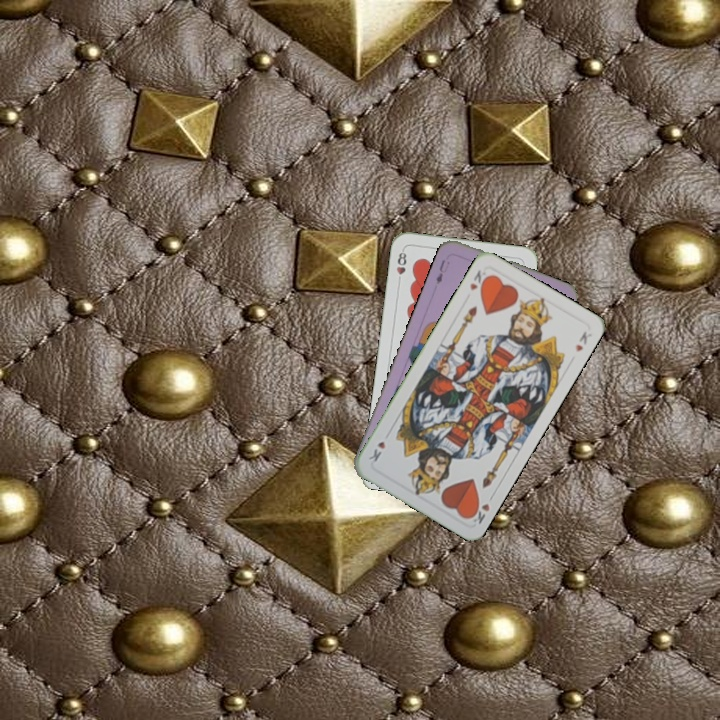EU: (432, 256, 453, 287)
H8: (392, 246, 409, 286)
HK: (465, 490, 497, 527), (466, 265, 491, 294)
